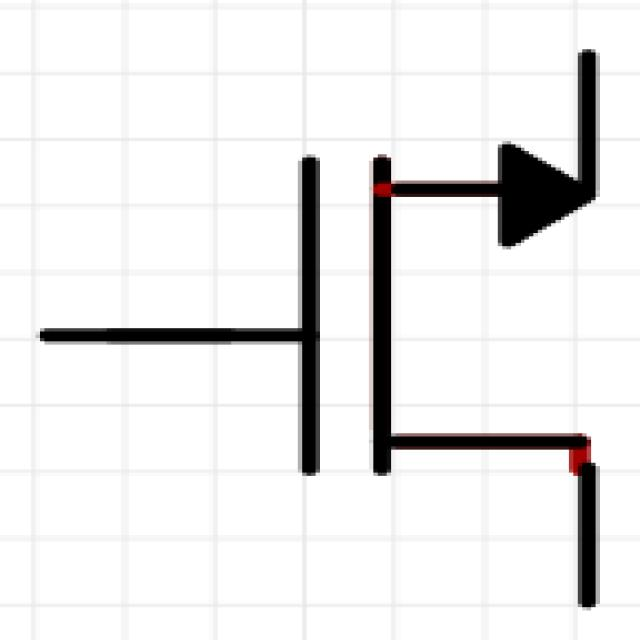nmos: (24, 28, 636, 609)
